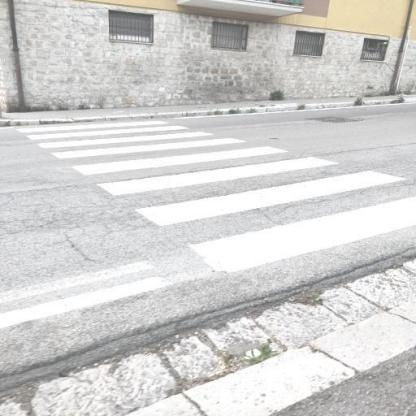crosswalk: (88, 154, 414, 235)
